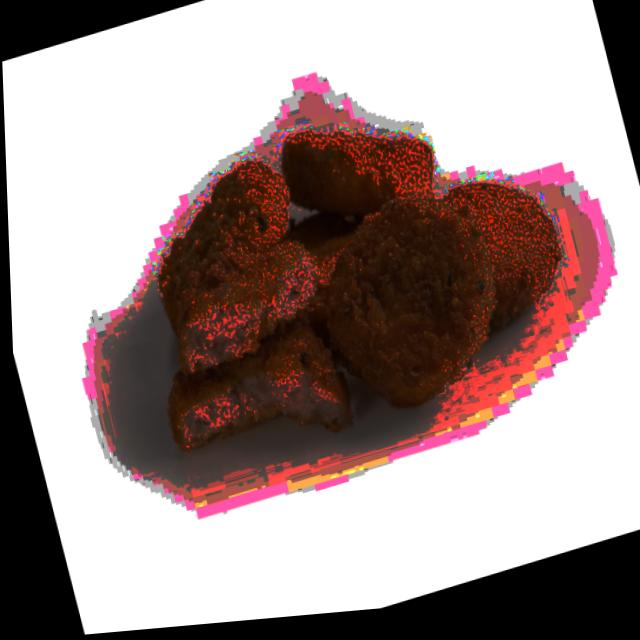chicken_nuggets: (289, 171, 526, 453), (120, 118, 342, 374), (152, 293, 371, 498), (267, 70, 453, 246)
